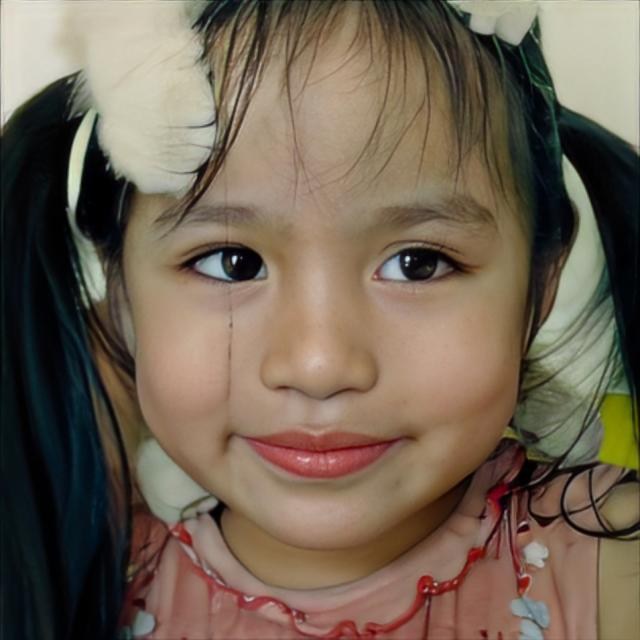happy: (123, 32, 532, 552)
